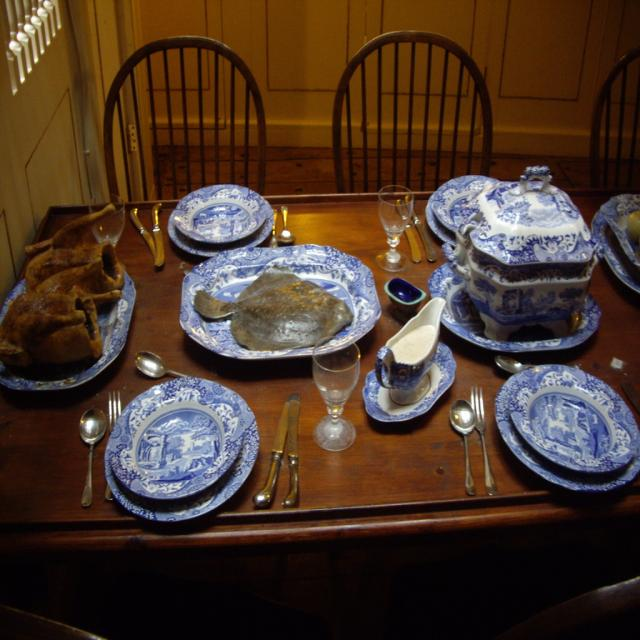non-organic waste: (78, 378, 304, 535), (183, 247, 370, 388), (477, 355, 622, 532), (168, 172, 276, 335), (427, 148, 539, 298)
